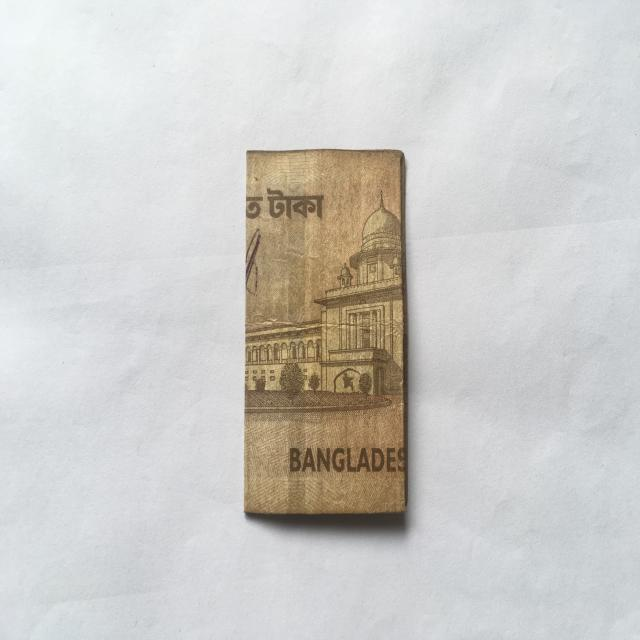Taka: (237, 133, 416, 521)
